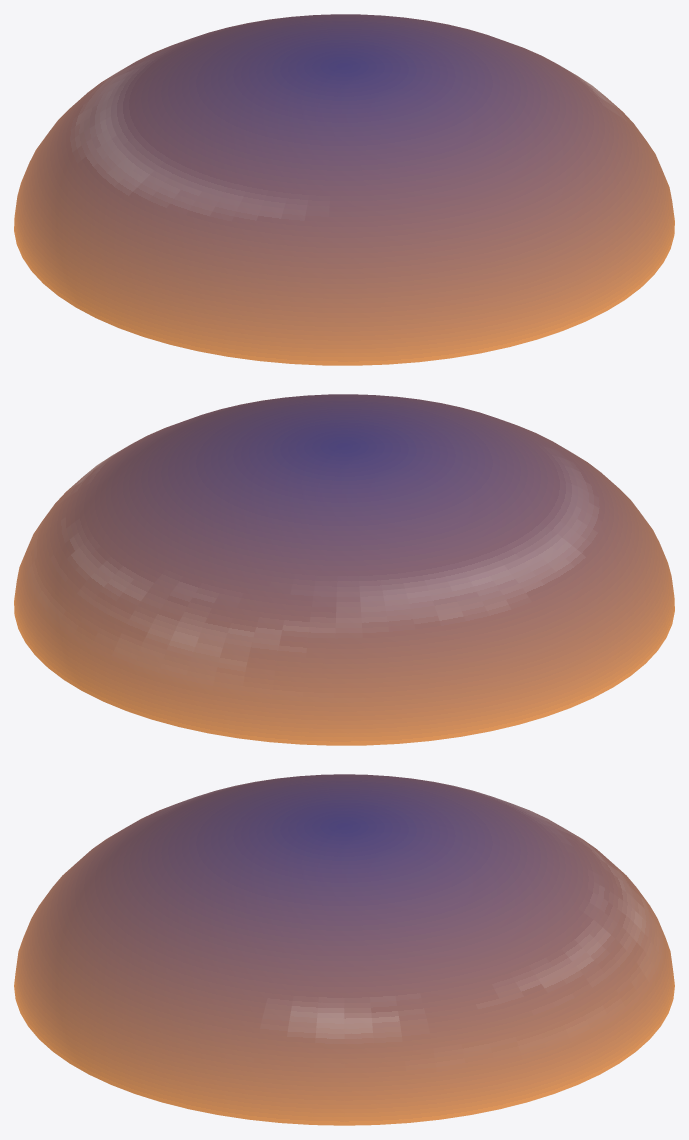
File: env-sky-s32-solar-dao.glb
3 views of the same model, one above another, from view 1: azimuth 30°, elevation 25°; view 2: azimuth 150°, elevation 25°; view 3: azimuth 270°, elevation 25° (orthographic).
Visible parts, largest first — view 1: Sky; view 2: Sky; view 3: Sky.
Part boxes in pixels (<box>): Sky: <box>14,14,674,365</box>; Sky: <box>14,394,674,745</box>; Sky: <box>14,774,674,1125</box>.
Bounding box in the file's own units: 1200 × 320 × 1200.
Materials: 2 (1 with a texture image).
